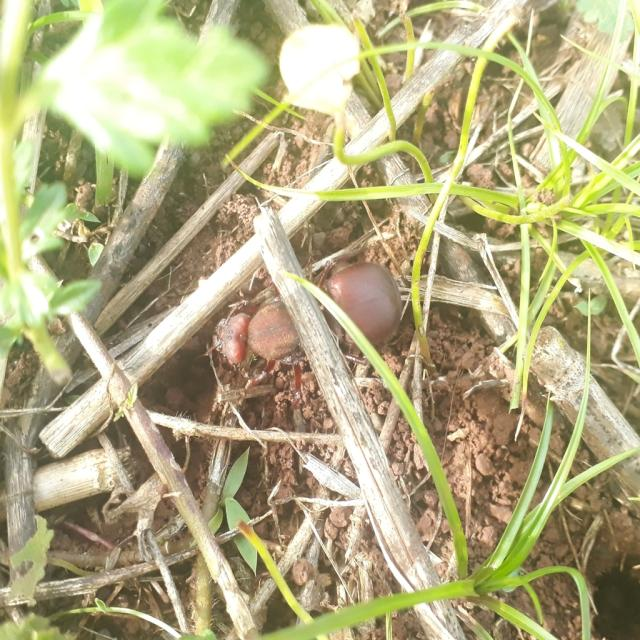Alive-Female-Dealate: (212, 262, 403, 412)
